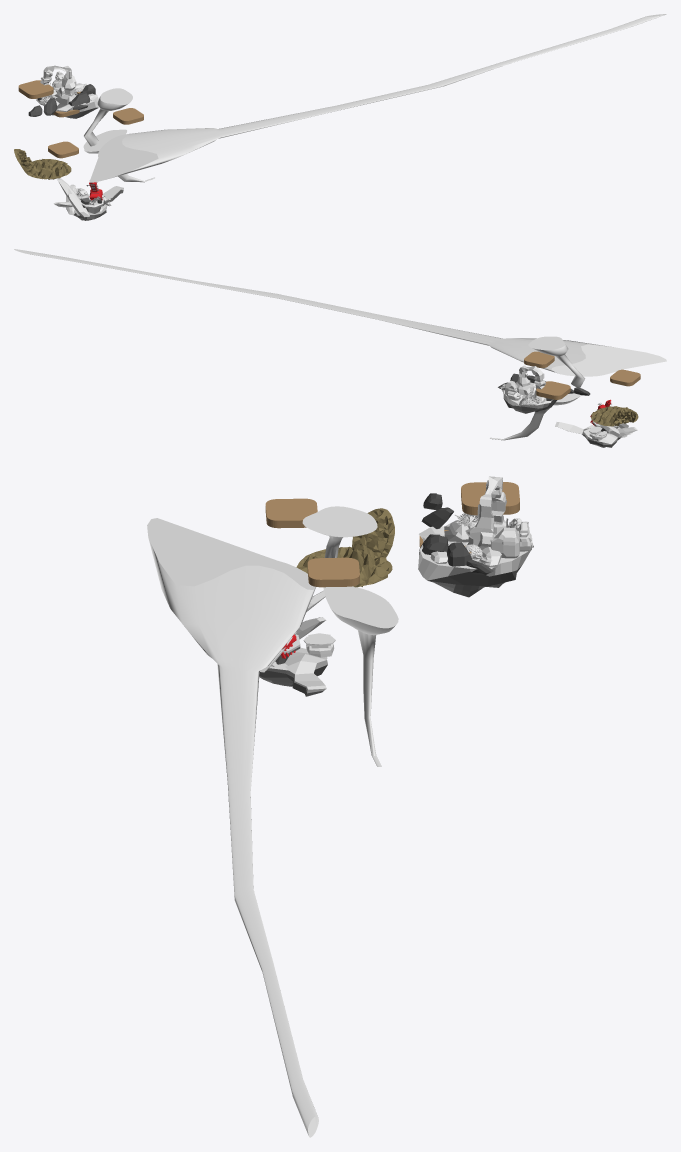
Rendered from unity_02周边2.fbx.
3 views of the same model, one above another, from view 1: azimuth 30°, elevation 25°; view 2: azimuth 150°, elevation 25°; view 3: azimuth 270°, elevation 25° (orthographic). The views are drawn at different scales.
Parts seen in each view (by area): view 1: 柱体.009, 重构网格, 柱体.004, 立方体.028, 立方体.021, 柱体.010, 立方体.026, 立方体.204, 立方体.212, 立方体.040, 立方体.211; view 2: 柱体.009, 柱体.004, 重构网格, 立方体.026, 立方体.028, 柱体.010, 立方体.021, 立方体.204, 立方体.212, 立方体.211; view 3: 柱体.009, 柱体.010, 立方体.021, 重构网格, 立方体.028, 柱体.004, 立方体.026, 立方体.211, 立方体.212, 立方体.204.
Boxes of the visible parts, x1,y1,x2,y2 form: 柱体.009: (89, 14, 666, 182); 重构网格: (14, 149, 71, 179); 柱体.004: (84, 88, 132, 146); 立方体.028: (73, 186, 123, 220); 立方体.021: (36, 86, 99, 118); 柱体.010: (83, 129, 154, 182); 立方体.026: (40, 65, 76, 96); 立方体.204: (18, 80, 53, 98); 立方体.212: (48, 141, 78, 158); 立方体.040: (57, 178, 89, 217); 立方体.211: (113, 108, 143, 124); 柱体.009: (14, 249, 666, 376); 柱体.004: (528, 336, 585, 387); 重构网格: (591, 406, 638, 426); 立方体.026: (516, 365, 546, 402); 立方体.028: (555, 421, 620, 447); 柱体.010: (489, 393, 581, 440); 立方体.021: (500, 382, 557, 413); 立方体.204: (536, 381, 570, 399); 立方体.212: (610, 369, 640, 386); 立方体.211: (524, 351, 554, 368); 柱体.009: (147, 518, 318, 1137); 柱体.010: (323, 586, 398, 766); 立方体.021: (418, 520, 533, 597); 重构网格: (296, 508, 394, 587); 立方体.028: (259, 634, 327, 696); 柱体.004: (302, 506, 377, 557); 立方体.026: (465, 476, 506, 549); 立方体.211: (307, 557, 359, 587); 立方体.212: (265, 498, 317, 528); 立方体.204: (461, 482, 519, 515).
Size of the model in its own units: 1092 by 185 by 288.
